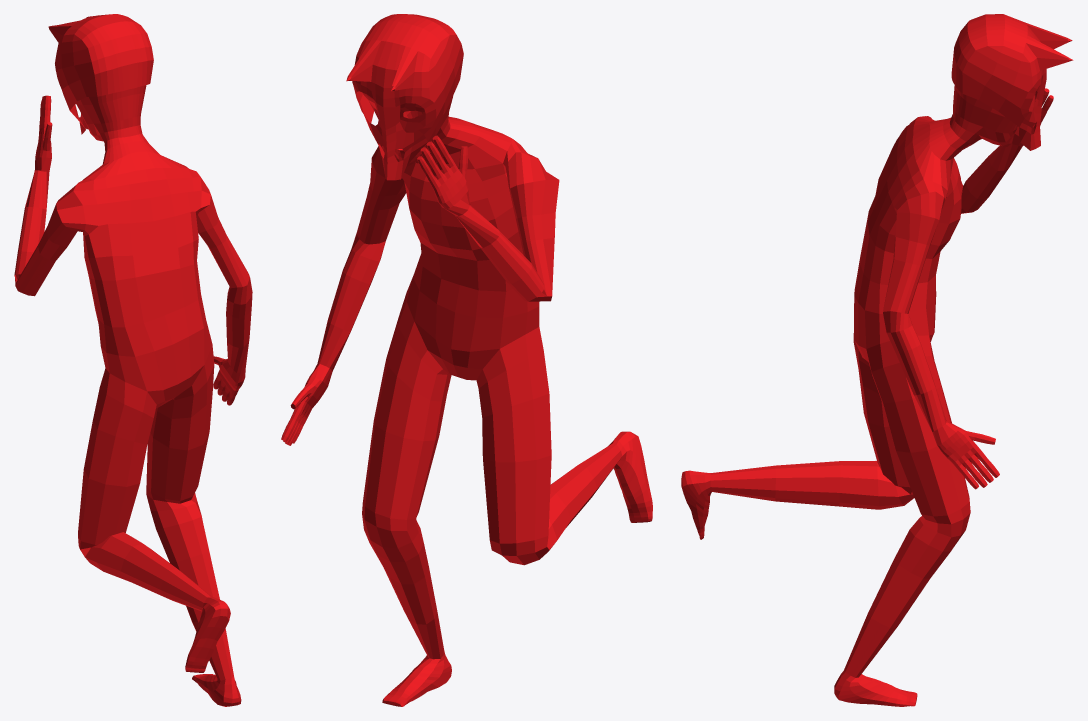
Rendered from correrE_000105.obj.
3 renders of one model, left to right at view 1: azimuth 30°, elevation 25°; view 2: azimuth 150°, elevation 25°; view 3: azimuth 270°, elevation 25°, orthographic. The views are drawn at different scales.
Visible parts, largest first — view 1: Plane.002_Plane.001; view 2: Plane.002_Plane.001; view 3: Plane.002_Plane.001.
Boxes of the visible parts, x1,y1,x2,y2 form: Plane.002_Plane.001: [14, 14, 252, 706]; Plane.002_Plane.001: [281, 14, 652, 706]; Plane.002_Plane.001: [681, 14, 1073, 706].
Bounding box in the file's own units: 2.36 × 6.5 × 3.54.
